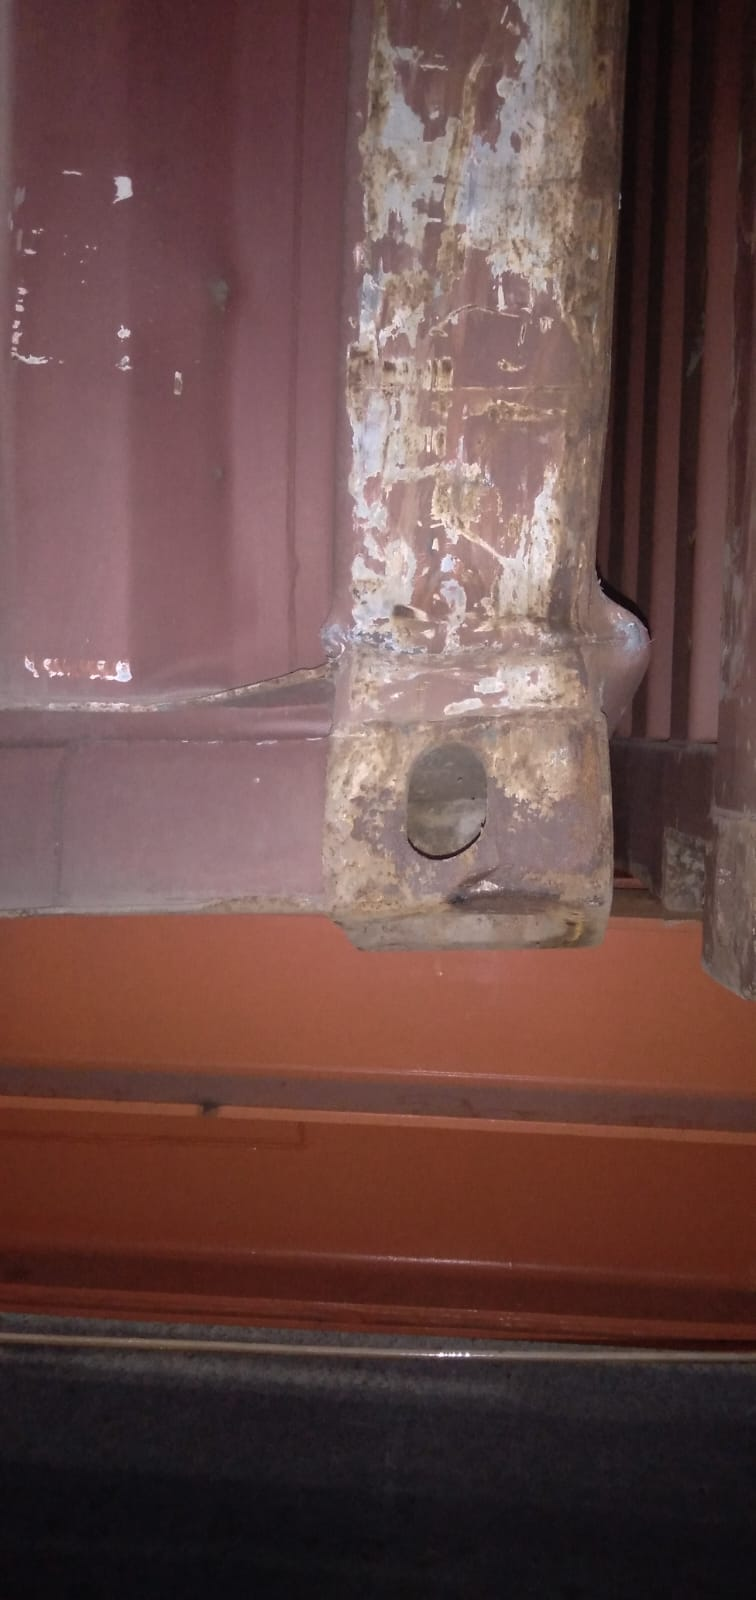bulged: (393, 306, 708, 884)
